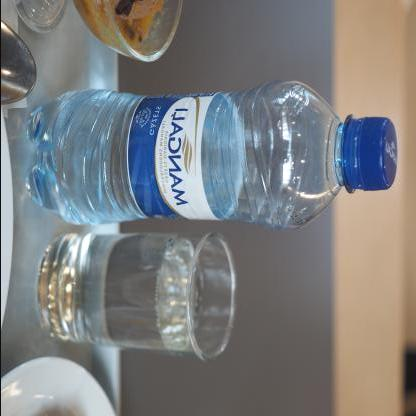bottle: (9, 66, 404, 237)
